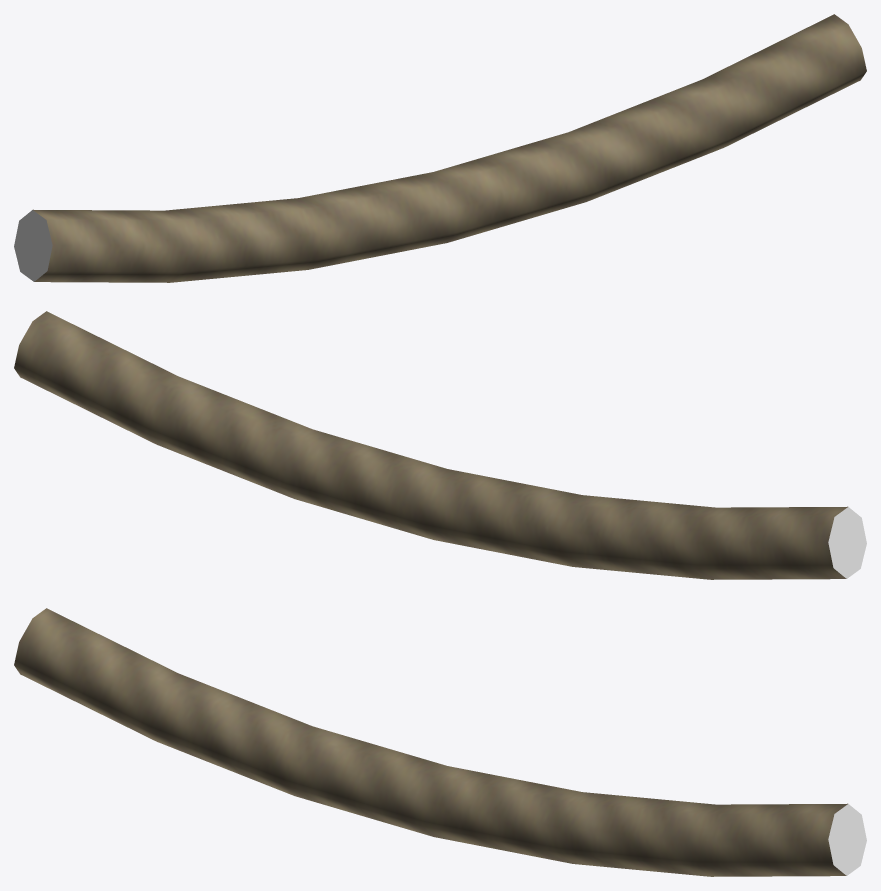
Rendered from Docks_Railing_Rope_Basic_2_1x1.glb.
3 views of the same model, one above another, from view 1: azimuth 30°, elevation 25°; view 2: azimuth 150°, elevation 25°; view 3: azimuth 330°, elevation 25° (orthographic).
Visible parts, largest first — view 1: Docks_Railing_Rope_Basic_2_1x1; view 2: Docks_Railing_Rope_Basic_2_1x1; view 3: Docks_Railing_Rope_Basic_2_1x1.
Part boxes in pixels (x1,y1,x2,y2): Docks_Railing_Rope_Basic_2_1x1: [14, 14, 866, 282]; Docks_Railing_Rope_Basic_2_1x1: [14, 311, 866, 579]; Docks_Railing_Rope_Basic_2_1x1: [14, 608, 866, 876].
Size of what is drawn, in the model's own units: 88.83 by 12.41 by 6.25.
2 materials, 1 textured.
